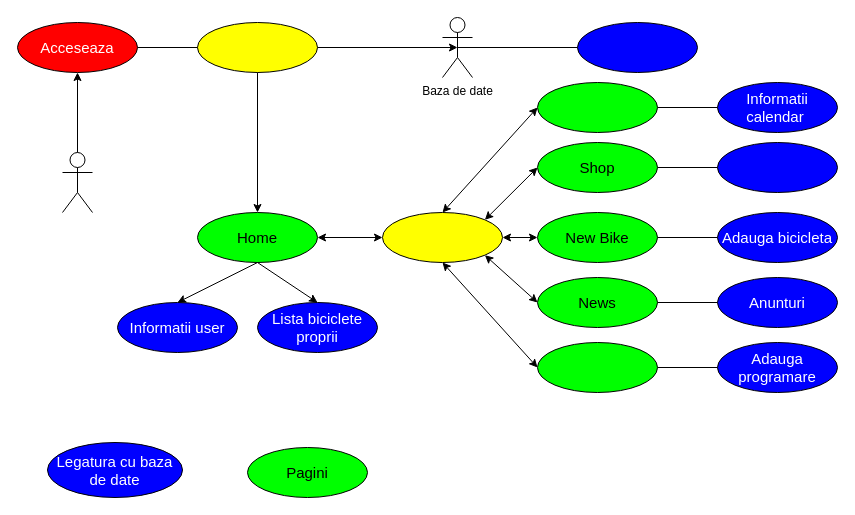
Image size: 855x515. Some labels were removed from this diagram. Here are the shapes that lost their labels. From the top down, the centre of each, then its label:
At (x=257, y=47): "Autentificare".
At (x=637, y=47): "Tabela users".
At (x=597, y=107): "Calendar".
At (x=77, y=182): "User".
At (x=777, y=167): "Shop items".
At (x=442, y=237): "Meniu".
At (x=597, y=367): "Add appointment".
